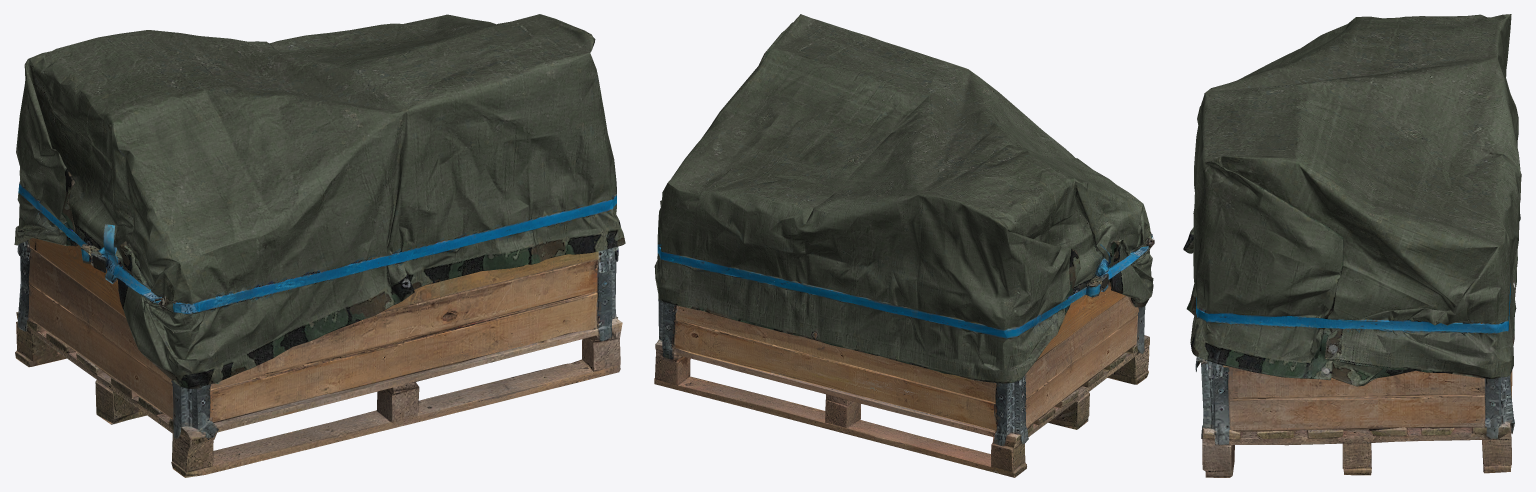
The model's file is SM_Ind_Jun_Storage_Pallet_Wood_Trap_01.gltf.
3 views of the same model, side by side, from view 1: azimuth 30°, elevation 25°; view 2: azimuth 150°, elevation 25°; view 3: azimuth 270°, elevation 25° (orthographic). The views are drawn at different scales.
Visible parts, largest first — view 1: SM_Ind_Jun_Storage_Pallet_Wood_Trap_01; view 2: SM_Ind_Jun_Storage_Pallet_Wood_Trap_01; view 3: SM_Ind_Jun_Storage_Pallet_Wood_Trap_01.
Part boxes in pixels (x1=…): SM_Ind_Jun_Storage_Pallet_Wood_Trap_01: x1=14, y1=14, x2=625, y2=477; SM_Ind_Jun_Storage_Pallet_Wood_Trap_01: x1=654, y1=14, x2=1154, y2=477; SM_Ind_Jun_Storage_Pallet_Wood_Trap_01: x1=1183, y1=14, x2=1521, y2=477.
Bounding box in the file's own units: 1.5 × 1.04 × 1.02.
1 material, 1 textured.
